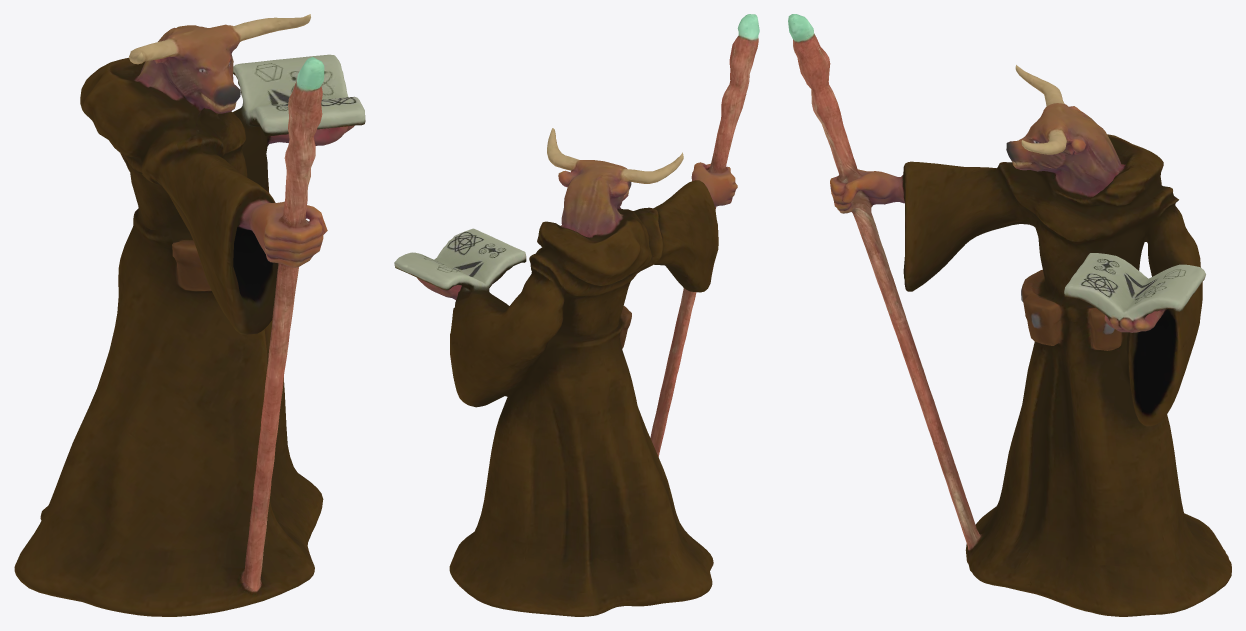
Rendered from MZ4250 - Minotaur Wizard Staff.glb.
3 renders of one model, left to right at view 1: azimuth 30°, elevation 25°; view 2: azimuth 150°, elevation 25°; view 3: azimuth 270°, elevation 25°, orthographic. The views are drawn at different scales.
Parts seen in each view (by area): view 1: Minotaur Wizard_low.001; view 2: Minotaur Wizard_low.001; view 3: Minotaur Wizard_low.001.
Boxes of the visible parts, bbox=[...] form: Minotaur Wizard_low.001: bbox=[14, 14, 365, 616]; Minotaur Wizard_low.001: bbox=[394, 14, 759, 616]; Minotaur Wizard_low.001: bbox=[788, 14, 1231, 616].
Bounding box in the file's own units: 1.53 × 2.55 × 1.93.
1 material, 1 textured.
